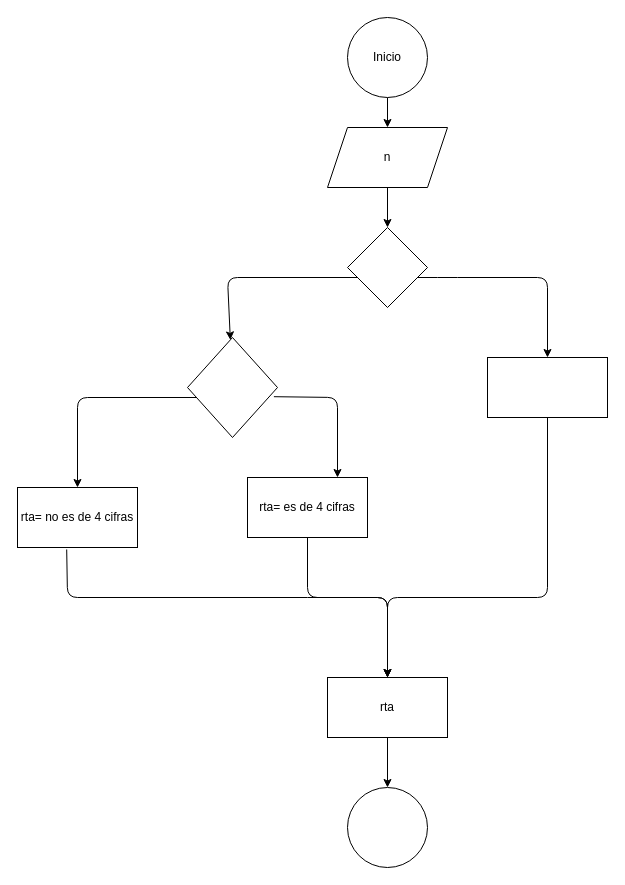
This 625x885 diagram has some shape labels left out. Each missing label, with the centre of its shape:
10000>n>999: (232,387)
n<0: (387,267)
rta= "negativo": (547,387)
